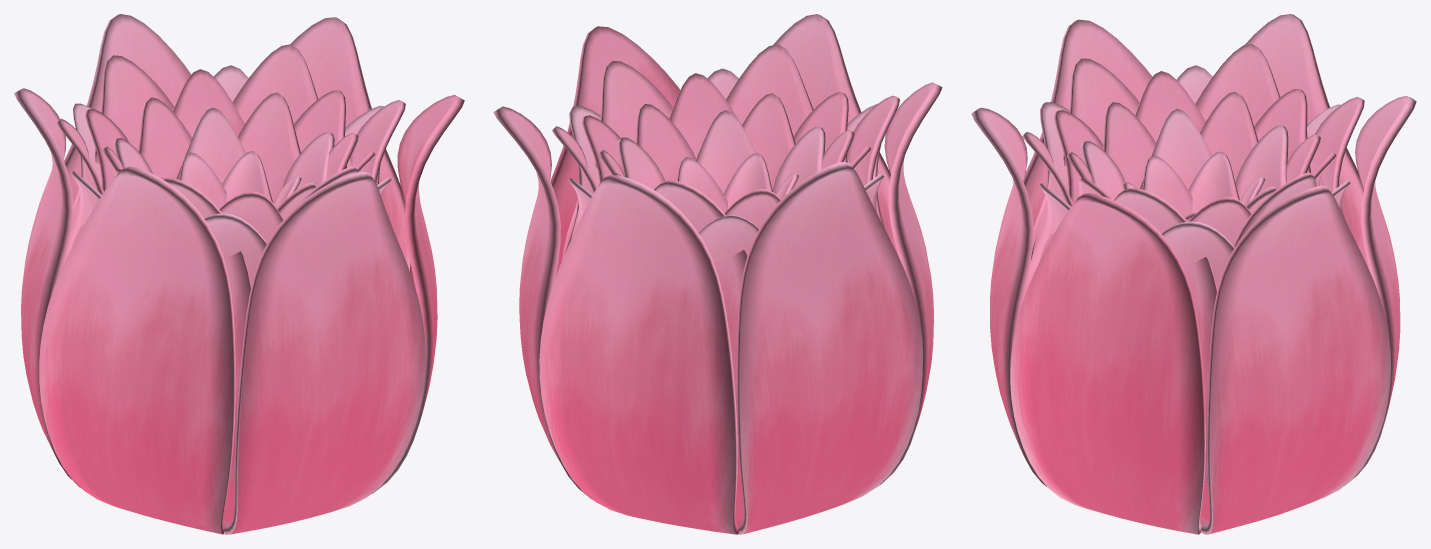
The model's file is intro_03.glb.
The picture shows the model from 3 angles, left to right: view 1: azimuth 30°, elevation 25°; view 2: azimuth 150°, elevation 25°; view 3: azimuth 270°, elevation 25°; orthographic projection.
Visible parts, largest first — view 1: Sphere.016, Sphere.001, Sphere.015, Sphere.017, Sphere.018, Sphere.014, Sphere.027, Sphere.035, Sphere.024, Sphere.036, Sphere.026, Sphere.039 (+16 smaller); view 2: Sphere.014, Sphere.015, Sphere.018, Sphere.016, Sphere.017, Sphere.001, Sphere.003, Sphere.024, Sphere.028, Sphere.033, Sphere.043, Sphere.037 (+14 smaller); view 3: Sphere.017, Sphere.018, Sphere.001, Sphere.014, Sphere.015, Sphere.016, Sphere.028, Sphere.025, Sphere.026, Sphere.038, Sphere.006, Sphere.019 (+16 smaller).
Part boxes in pixels (x1,y1,x2,y2): Sphere.016: (39, 166, 235, 534); Sphere.001: (223, 171, 425, 534); Sphere.015: (14, 88, 80, 487); Sphere.017: (372, 94, 464, 493); Sphere.018: (290, 17, 410, 271); Sphere.014: (64, 14, 191, 204); Sphere.027: (232, 44, 318, 123); Sphere.035: (238, 92, 300, 202); Sphere.024: (95, 55, 174, 164); Sphere.036: (138, 97, 192, 178); Sphere.026: (163, 178, 251, 483); Sphere.039: (176, 107, 245, 183); Sphere.014: (539, 175, 739, 534); Sphere.015: (736, 162, 922, 534); Sphere.018: (493, 106, 592, 499); Sphere.016: (877, 82, 942, 486); Sphere.017: (550, 26, 680, 276); Sphere.001: (773, 14, 898, 256); Sphere.003: (726, 44, 813, 136); Sphere.024: (654, 180, 747, 473); Sphere.028: (595, 61, 672, 167); Sphere.033: (669, 73, 741, 157); Sphere.043: (695, 110, 755, 193); Sphere.037: (742, 93, 795, 189); Sphere.017: (1010, 193, 1205, 534); Sphere.018: (1200, 185, 1390, 534); Sphere.001: (971, 107, 1046, 486); Sphere.014: (1345, 96, 1416, 485); Sphere.015: (1244, 14, 1370, 273); Sphere.016: (1023, 19, 1152, 226); Sphere.028: (1114, 188, 1217, 483); Sphere.025: (1195, 44, 1280, 126); Sphere.026: (1063, 58, 1139, 166); Sphere.038: (1103, 102, 1156, 188); Sphere.006: (1200, 91, 1258, 181); Sphere.019: (1161, 221, 1234, 516).
Size of the model in its own units: 2.88 by 3.03 by 2.9.
Materials: 9 (2 with a texture image).
